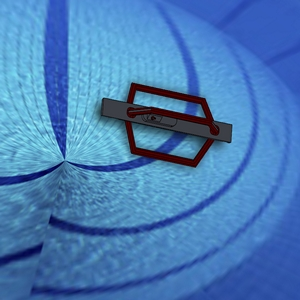submarine: (85, 63, 256, 197)
